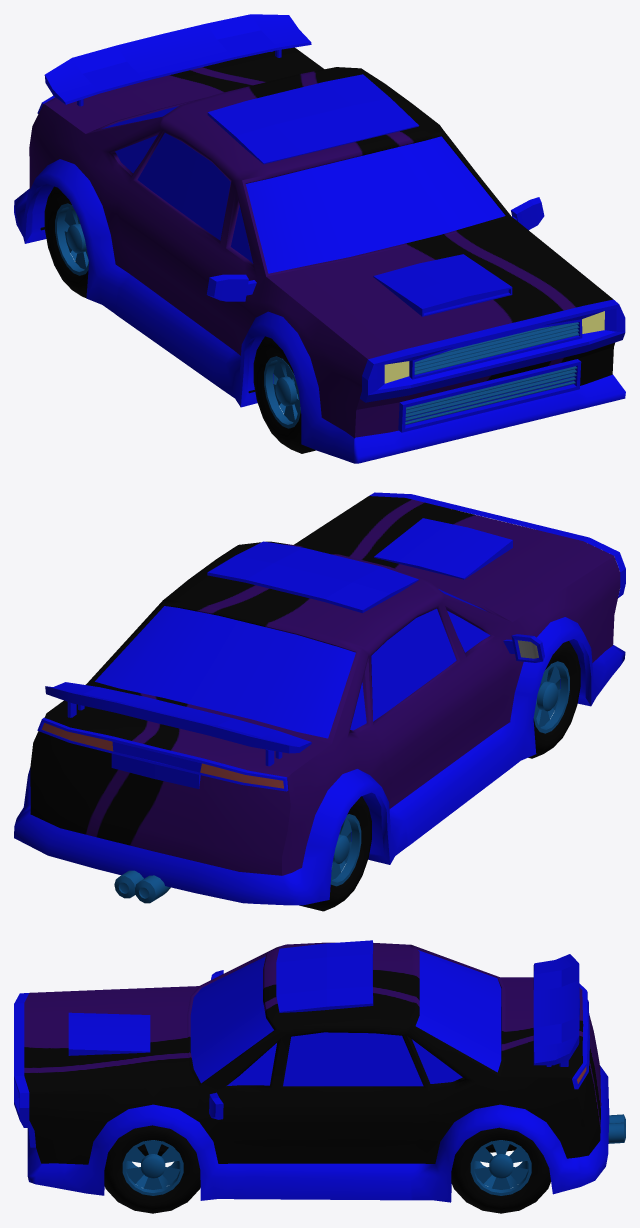
File: Muscle Evolution3 Blue WaveBlackPurple Blue BlueGrey.glb
The picture shows the model from 3 angles, top to bottom: view 1: azimuth 30°, elevation 25°; view 2: azimuth 150°, elevation 25°; view 3: azimuth 270°, elevation 25°; orthographic projection. The views are drawn at different scales.
Visible parts, largest first — view 1: evo3_body1_f1_dupl, evo3_sill3_f1_dupl, evo3_frontGlass_f1_dupl, evo3_rooftop3_f1_dupl, evo3_spoiler3_f1_dupl, evo3_frontBlockGrid3_f1_dupl, evo3_glasseBigR_f1_dupl, evo3_airtrap_front4_f1_dupl, evo3_blockgrid3_f1_dupl, evo3_gridfrontbot3_f1_dupl, evo3_gridfrontup3_f1_dupl, evo3_tire_rf1_f1_dupl (+6 smaller); view 2: evo3_body1_f1_dupl, evo3_sill3_f1_dupl, evo3_BackGlassGlass_f1_dupl, evo3_rooftop3_f1_dupl, evo3_spoiler3_f1_dupl, evo3_glasseBigR_f1_dupl, evo3_airtrap_front4_f1_dupl, evo3_blockbacklight_f1_dupl, evo3_rim_A_rf_f1_dupl, evo3_tire_rf1_f1_dupl, evo3_tire_rf_f1_dupl, evo3_frontBlockGrid3_f1_dupl (+6 smaller); view 3: evo3_body1_f1_dupl, evo3_sill3_f1_dupl, evo3_BackGlassGlass_f1_dupl, evo3_glasseBigL_f1_dupl, evo3_frontGlass_f1_dupl, evo3_rooftop3_f1_dupl, evo3_spoiler3_f1_dupl, evo3_tire_lf_f1_dupl, evo3_tire_lb_f1_dupl, evo3_airtrap_front4_f1_dupl, evo3_rim_A_lf_f1_dupl, evo3_rim_A_lb_f1_dupl (+5 smaller).
Boxes of the visible parts, x1,y1,x2,y2 form: evo3_body1_f1_dupl: (29, 47, 614, 438); evo3_sill3_f1_dupl: (14, 159, 625, 463); evo3_frontGlass_f1_dupl: (246, 136, 505, 273); evo3_rooftop3_f1_dupl: (207, 74, 419, 164); evo3_spoiler3_f1_dupl: (44, 14, 311, 106); evo3_frontBlockGrid3_f1_dupl: (360, 299, 625, 402); evo3_glasseBigR_f1_dupl: (137, 133, 230, 240); evo3_airtrap_front4_f1_dupl: (373, 254, 512, 316); evo3_blockgrid3_f1_dupl: (398, 359, 581, 432); evo3_gridfrontbot3_f1_dupl: (405, 366, 577, 424); evo3_gridfrontup3_f1_dupl: (414, 322, 579, 374); evo3_tire_rf1_f1_dupl: (253, 336, 315, 453); evo3_body1_f1_dupl: (30, 496, 620, 875); evo3_sill3_f1_dupl: (14, 617, 625, 905); evo3_BackGlassGlass_f1_dupl: (95, 606, 355, 738); evo3_rooftop3_f1_dupl: (207, 541, 418, 613); evo3_spoiler3_f1_dupl: (45, 682, 311, 766); evo3_glasseBigR_f1_dupl: (371, 608, 456, 721); evo3_airtrap_front4_f1_dupl: (374, 518, 512, 579); evo3_blockbacklight_f1_dupl: (37, 718, 288, 791); evo3_rim_A_rf_f1_dupl: (533, 661, 569, 733); evo3_tire_rf1_f1_dupl: (528, 641, 580, 758); evo3_tire_rf_f1_dupl: (299, 796, 371, 911); evo3_frontBlockGrid3_f1_dupl: (369, 492, 625, 597); evo3_body1_f1_dupl: (24, 942, 601, 1164); evo3_sill3_f1_dupl: (27, 1065, 609, 1202); evo3_BackGlassGlass_f1_dupl: (415, 950, 501, 1072); evo3_glasseBigL_f1_dupl: (283, 1032, 423, 1086); evo3_frontGlass_f1_dupl: (190, 956, 273, 1083); evo3_rooftop3_f1_dupl: (276, 940, 373, 1012); evo3_spoiler3_f1_dupl: (533, 954, 579, 1066); evo3_tire_lf_f1_dupl: (104, 1125, 200, 1213); evo3_tire_lb_f1_dupl: (451, 1127, 550, 1213); evo3_airtrap_front4_f1_dupl: (68, 1012, 150, 1055); evo3_rim_A_lf_f1_dupl: (122, 1140, 183, 1195); evo3_rim_A_lb_f1_dupl: (470, 1140, 531, 1195).
Bounding box in the file's own units: 177 × 116 × 335.
Materials: 7 (1 with a texture image).
